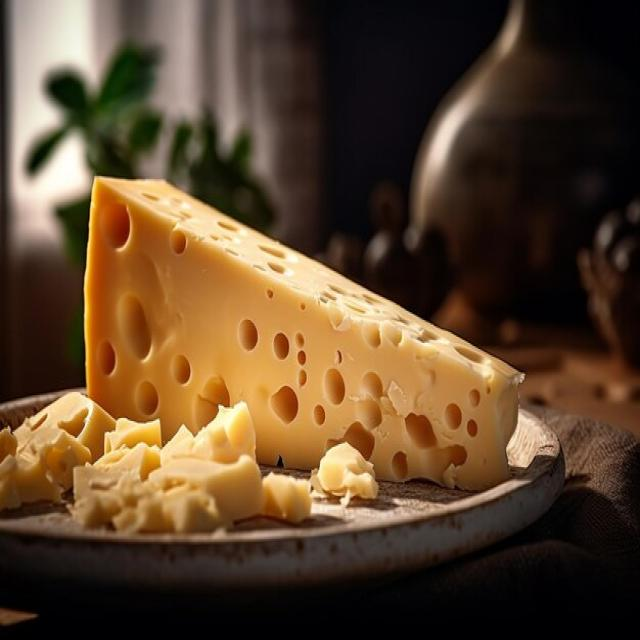Cheese: (71, 166, 519, 524)
